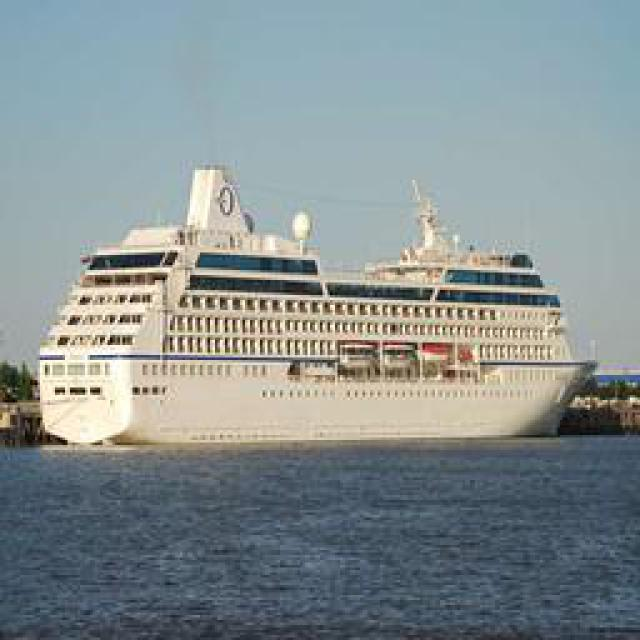Ship: (31, 165, 599, 448)
